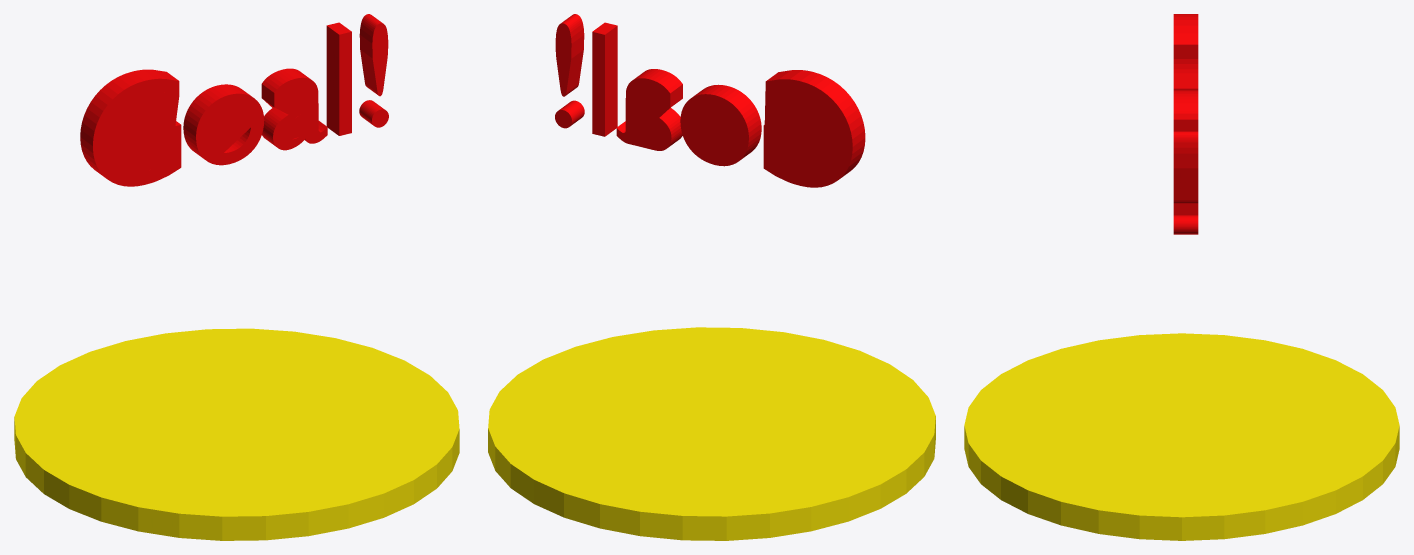
Rendered from Goal.fbx.
3 views of the same model, side by side, from view 1: azimuth 30°, elevation 25°; view 2: azimuth 150°, elevation 25°; view 3: azimuth 270°, elevation 25° (orthographic). The views are drawn at different scales.
Visible parts, largest first — view 1: Cube.002, Cube.004; view 2: Cube.002, Cube.004; view 3: Cube.002, Cube.004.
Boxes of the visible parts, box(x1,y1,x2,y2) form: Cube.002: box(14, 328, 459, 540); Cube.004: box(80, 14, 388, 186); Cube.002: box(488, 327, 935, 540); Cube.004: box(555, 14, 865, 187); Cube.002: box(964, 333, 1399, 540); Cube.004: box(1173, 14, 1198, 234).
Size of the model in its own units: 2 by 1.94 by 2.
